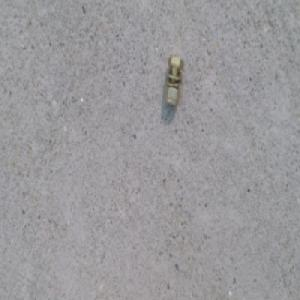BoltNutSet: (160, 59, 184, 108)
